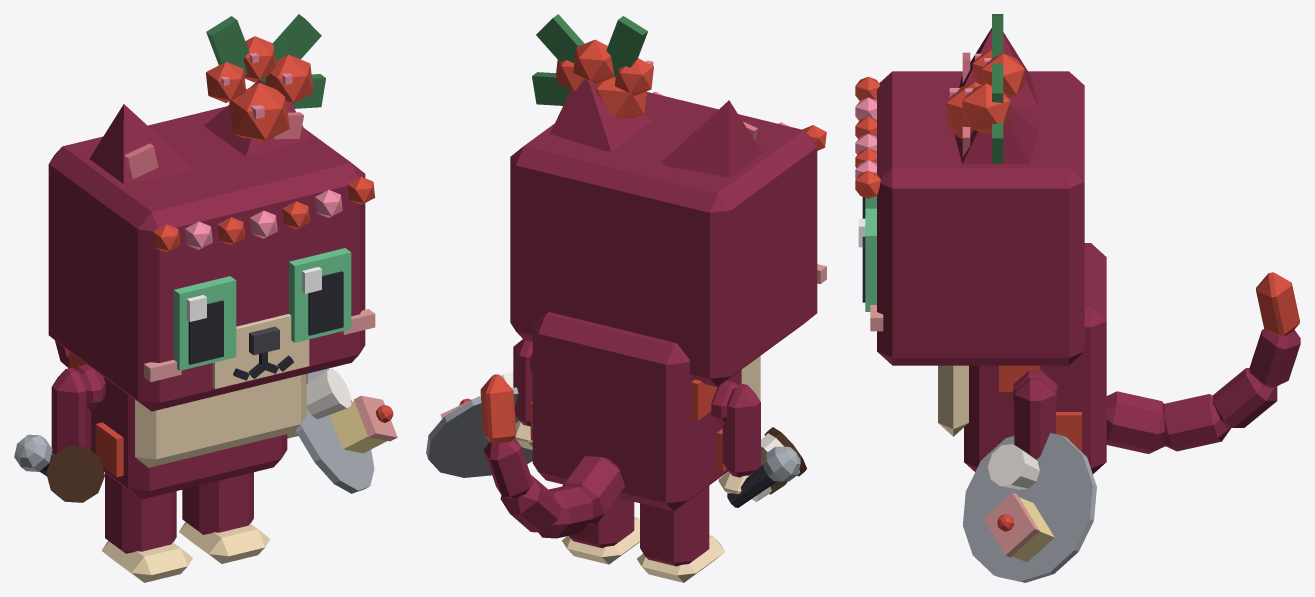
File: CatCafe_Cat_Cranberry_Work.fbx
3 renders of one model, left to right at view 1: azimuth 30°, elevation 25°; view 2: azimuth 150°, elevation 25°; view 3: azimuth 270°, elevation 25°, orthographic. The views are drawn at different scales.
Visible parts, largest first — view 1: CatCafe_Cat_Cranberry_Work_Head, CatCafe_Cat_Cranberry_Work_Body, CatCafe_Cat_Cranberry_Work_Prop, CatCafe_Cat_Cranberry_Work_Held_Waiter, CatCafe_Cat_Cranberry_Work_LegB2, CatCafe_Cat_Cranberry_Work_LegB1, CatCafe_Cat_Cranberry_Work_Eye2, CatCafe_Cat_Cranberry_Work_Eye1, CatCafe_Cat_Cranberry_Work_EarR, CatCafe_Cat_Cranberry_Work_LegF2, CatCafe_Cat_Cranberry_Work_Held_Barista, CatCafe_Cat_Cranberry_Work_EarL (+1 smaller); view 2: CatCafe_Cat_Cranberry_Work_Head, CatCafe_Cat_Cranberry_Work_Body, CatCafe_Cat_Cranberry_Work_Tail, CatCafe_Cat_Cranberry_Work_Prop, CatCafe_Cat_Cranberry_Work_LegB2, CatCafe_Cat_Cranberry_Work_EarR, CatCafe_Cat_Cranberry_Work_Held_Waiter, CatCafe_Cat_Cranberry_Work_EarL, CatCafe_Cat_Cranberry_Work_LegF2, CatCafe_Cat_Cranberry_Work_LegB1, CatCafe_Cat_Cranberry_Work_Held_Entertainer, CatCafe_Cat_Cranberry_Work_LegF1 (+1 smaller); view 3: CatCafe_Cat_Cranberry_Work_Head, CatCafe_Cat_Cranberry_Work_Held_Waiter, CatCafe_Cat_Cranberry_Work_Body, CatCafe_Cat_Cranberry_Work_Tail, CatCafe_Cat_Cranberry_Work_Prop, CatCafe_Cat_Cranberry_Work_LegF1, CatCafe_Cat_Cranberry_Work_EarL, CatCafe_Cat_Cranberry_Work_Eye1, CatCafe_Cat_Cranberry_Work_EarR.
Boxes of the visible parts, x1,y1,x2,y2 form: CatCafe_Cat_Cranberry_Work_Head: (48, 106, 375, 411); CatCafe_Cat_Cranberry_Work_Body: (69, 351, 306, 499); CatCafe_Cat_Cranberry_Work_Prop: (152, 14, 375, 252); CatCafe_Cat_Cranberry_Work_Held_Waiter: (295, 368, 397, 493); CatCafe_Cat_Cranberry_Work_LegB2: (102, 473, 192, 582); CatCafe_Cat_Cranberry_Work_LegB1: (179, 472, 270, 563); CatCafe_Cat_Cranberry_Work_Eye2: (173, 276, 236, 370); CatCafe_Cat_Cranberry_Work_Eye1: (289, 248, 351, 342); CatCafe_Cat_Cranberry_Work_EarR: (89, 104, 194, 183); CatCafe_Cat_Cranberry_Work_LegF2: (51, 367, 91, 454); CatCafe_Cat_Cranberry_Work_Held_Barista: (46, 445, 104, 502); CatCafe_Cat_Cranberry_Work_EarL: (204, 80, 308, 156); CatCafe_Cat_Cranberry_Work_Head: (510, 92, 826, 386); CatCafe_Cat_Cranberry_Work_Body: (530, 312, 760, 511); CatCafe_Cat_Cranberry_Work_Tail: (480, 374, 624, 538); CatCafe_Cat_Cranberry_Work_Prop: (532, 14, 826, 150); CatCafe_Cat_Cranberry_Work_LegB2: (637, 486, 724, 582); CatCafe_Cat_Cranberry_Work_EarR: (661, 100, 762, 177); CatCafe_Cat_Cranberry_Work_Held_Waiter: (426, 372, 532, 477); CatCafe_Cat_Cranberry_Work_EarL: (550, 79, 651, 150); CatCafe_Cat_Cranberry_Work_LegF2: (718, 383, 760, 494); CatCafe_Cat_Cranberry_Work_LegB1: (562, 497, 639, 564); CatCafe_Cat_Cranberry_Work_Held_Entertainer: (727, 446, 800, 507); CatCafe_Cat_Cranberry_Work_LegF1: (513, 339, 532, 449); CatCafe_Cat_Cranberry_Work_Head: (870, 71, 1084, 365); CatCafe_Cat_Cranberry_Work_Held_Waiter: (962, 433, 1096, 582); CatCafe_Cat_Cranberry_Work_Body: (938, 243, 1106, 473); CatCafe_Cat_Cranberry_Work_Tail: (1106, 272, 1300, 453); CatCafe_Cat_Cranberry_Work_Prop: (855, 14, 1024, 198); CatCafe_Cat_Cranberry_Work_LegF1: (1014, 377, 1055, 459); CatCafe_Cat_Cranberry_Work_EarL: (954, 106, 1037, 164); CatCafe_Cat_Cranberry_Work_Eye1: (858, 208, 876, 311); CatCafe_Cat_Cranberry_Work_EarR: (959, 28, 1037, 105).
Size of the model in its own units: 1.53 by 2.16 by 1.63.
1 material, 1 textured.
